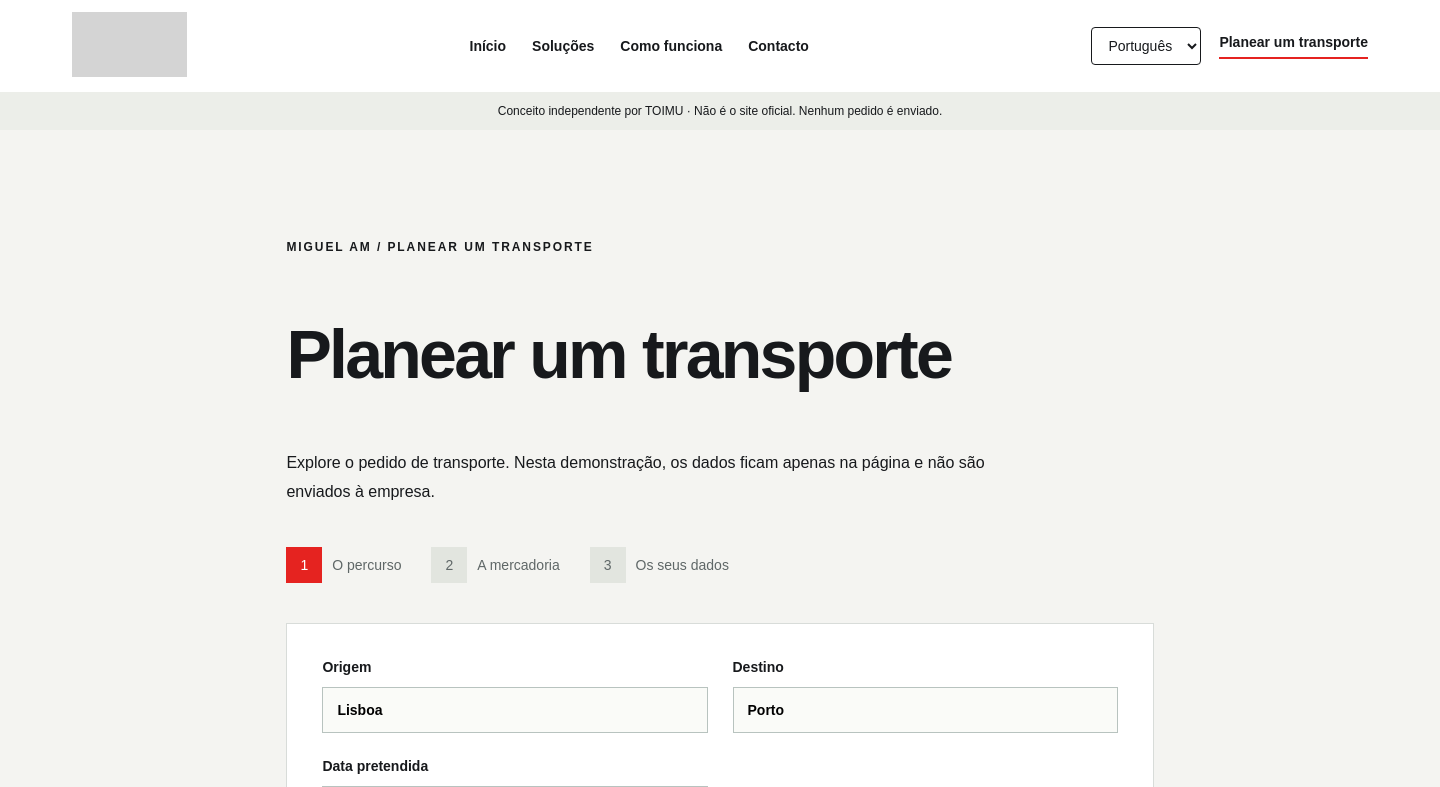
Test: language switching translates the quote form and document
Step 1. Select "English" in the dropdown named "Idioma do site" → (1146, 46), box [1091,27,1201,65]
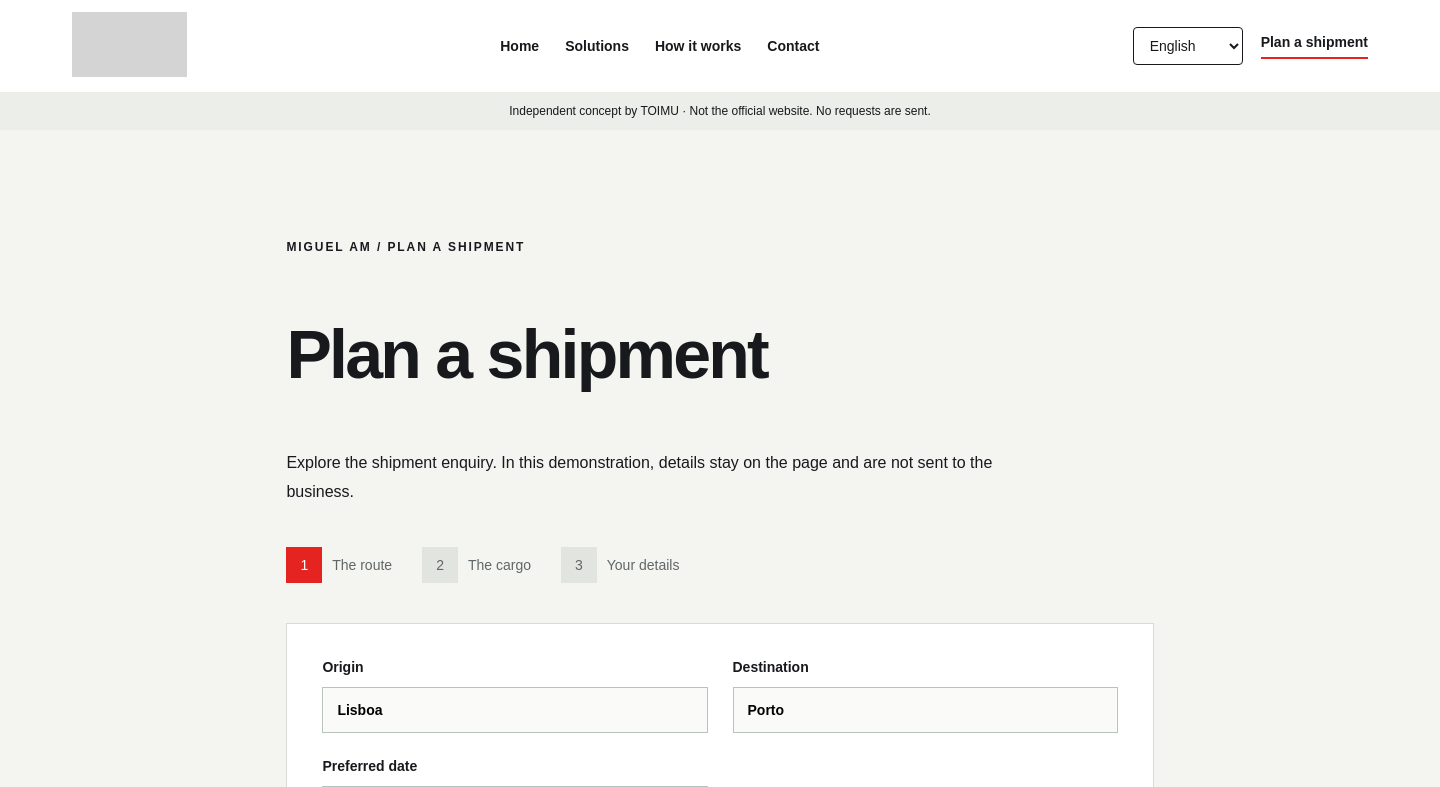
Result: the heading "Plan a shipment" is shown at [286,316,767,392]
Result: the text "The cargo" is shown at [468,557,531,573]
